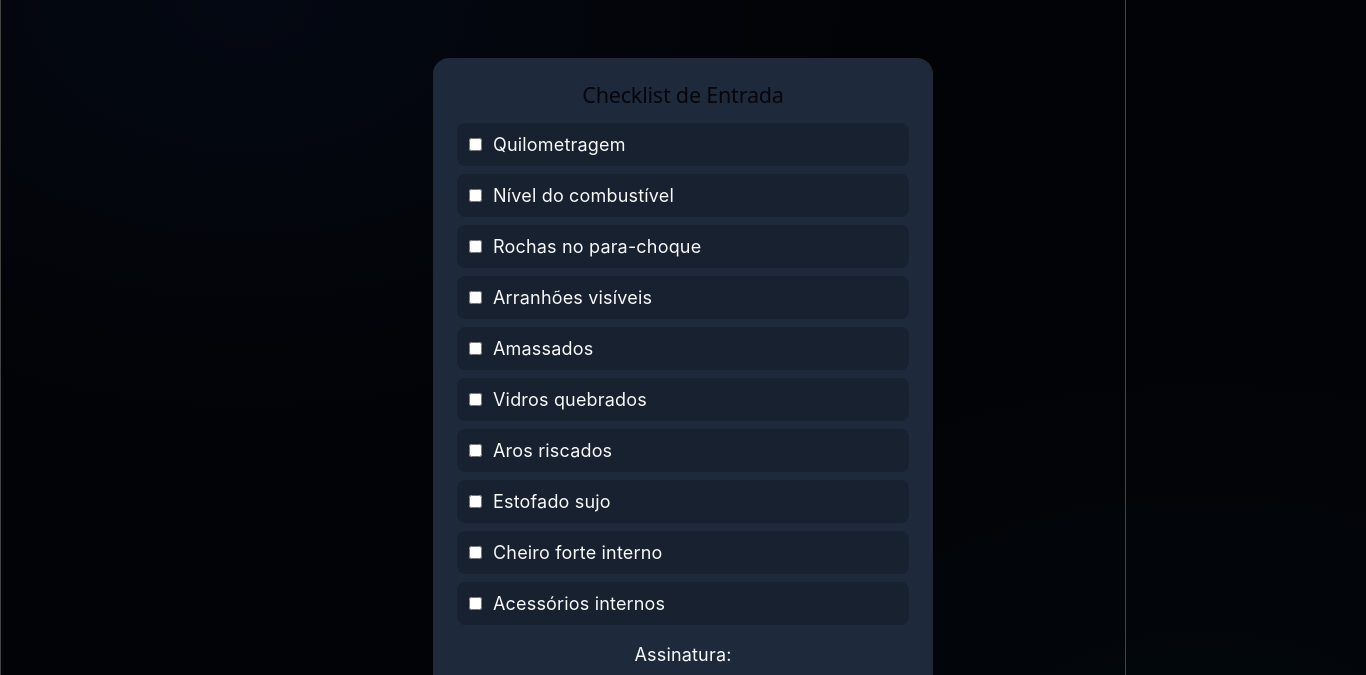
Test: ChecklistModal › toggles a checklist item when checkbox is clicked
Click the checkbox labelled "Quilometragem": (476, 145) [469,138,482,151]
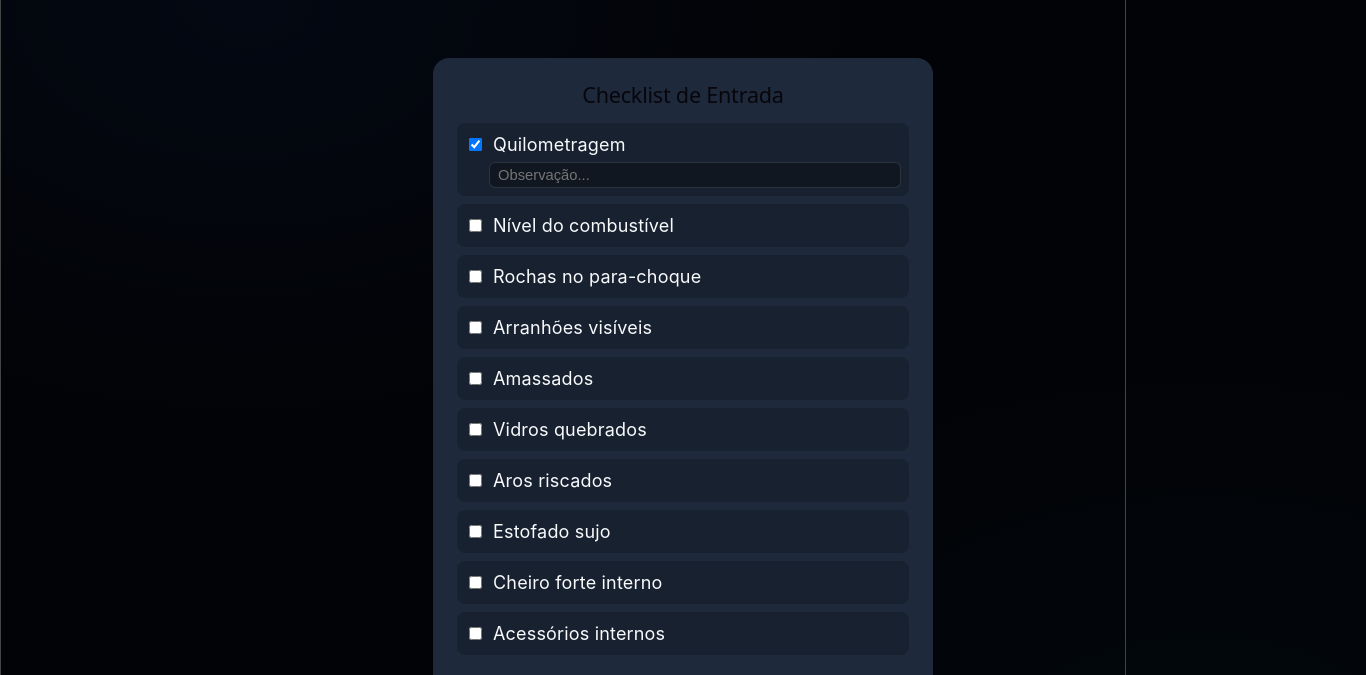
expect the checkbox labelled "Quilometragem" is checked: met, box [469,138,482,151]
expect the field with placeholder "Observação..." is shown: met, box [489,162,901,188]
